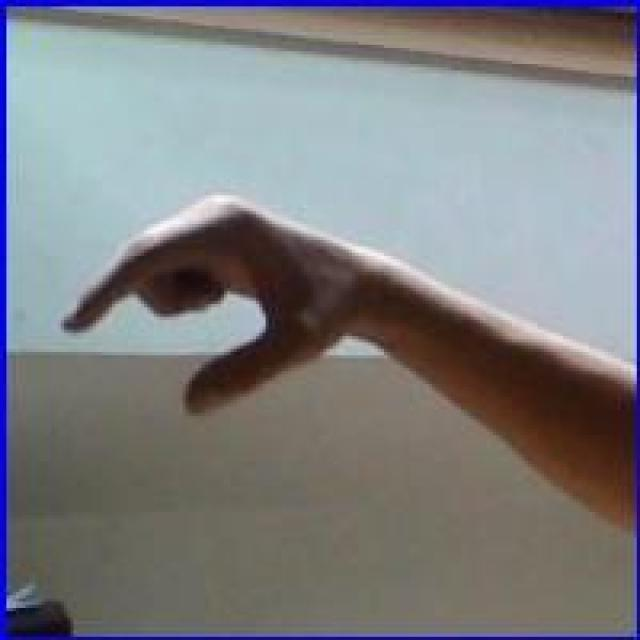Q: (61, 192, 368, 422)
